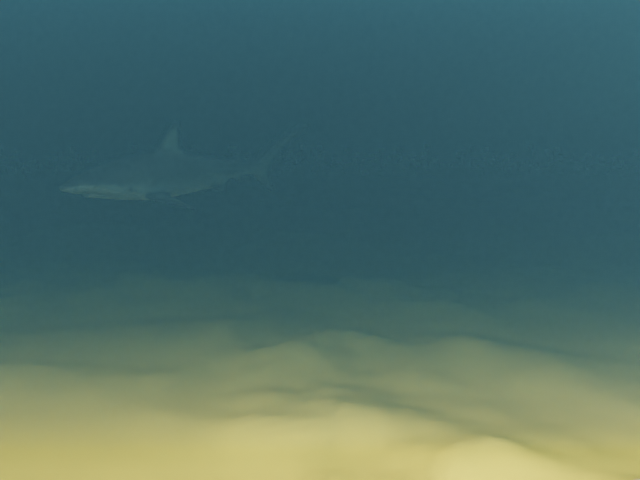Carribean Shark.001: (58, 123, 306, 209)
